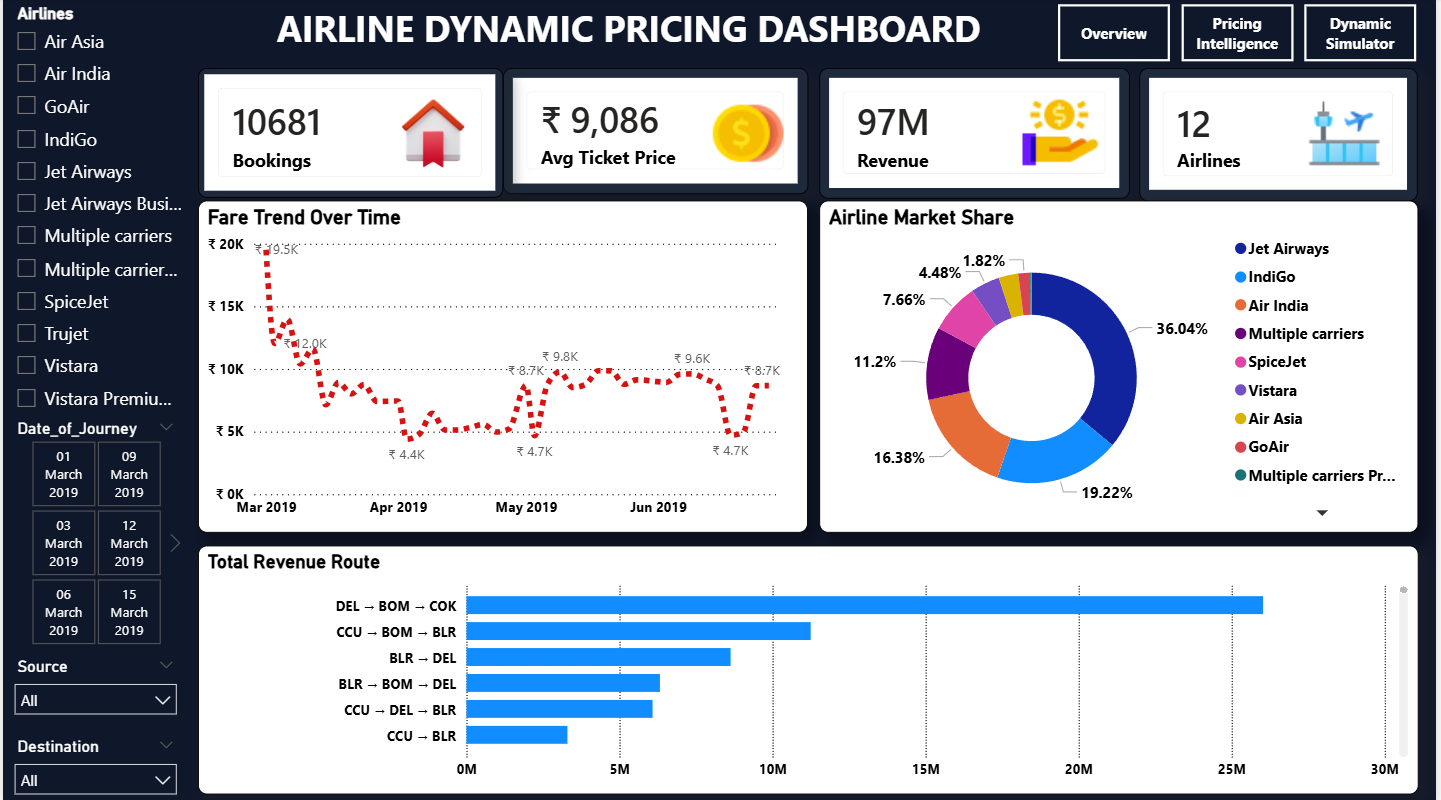

The page's visual inventory and layout, read from the dashboard file:
{"tool":"powerbi","page":{"name":"Overview","canvas":[1280,720],"ordinal":0},"visuals":[{"type":"cardVisual","fields":{"Data":["Airline.Avg Ticket Price"]},"box":[455.6,62.5,263.5,112.8],"z":0},{"type":"cardVisual","fields":{"Data":["Airline.Total Revenue"]},"box":[729.2,62.5,276.9,112.8],"z":1000},{"type":"cardVisual","fields":{"Data":["Airline.Total Flights"]},"box":[1015,62.5,247.9,112.8],"z":2000},{"type":"cardVisual","fields":{"Data":["Airline.Total Bookings"]},"box":[174.2,62.5,272.5,112.8],"z":3000},{"type":"textbox","box":[237.8,0,705.7,62.5],"z":4000},{"type":"lineChart","title":"Fare Trend Over Time","fields":{"Y":["Airline.Avg Ticket Price"],"Category":["Airline.Date_of_Journey.Variation.Date Hierarchy.Year","Airline.Date_of_Journey.Variation.Date Hierarchy.Quarter","Airline.Date_of_Journey.Variation.Date Hierarchy.Month","Airline.Date_of_Journey.Variation.Date Hierarchy.Day"]},"box":[174.1,181.3,545.1,296.6],"z":5000},{"type":"donutChart","title":"Airline Market Share","fields":{"Category":["Airline.Airline"],"Y":["Airline.Total Bookings"]},"box":[728.9,181.3,535.5,296.6],"z":6000},{"type":"clusteredBarChart","title":"Total Revenue Route","fields":{"Category":["Airline.Route"],"Y":["Airline.Total Revenue"]},"box":[174.1,488.7,1090.3,222.1],"z":7000},{"type":"slicer","fields":{"Values":["Airline.Airline"]},"box":[0,0,165.3,397.5],"z":8000},{"type":"slicer","fields":{"Values":["Airline.Source"]},"box":[0,583.7,165.1,72.1],"z":9000},{"type":"slicer","fields":{"Values":["Airline.Destination"]},"box":[0,655.8,165.1,64],"z":10000},{"type":"slicer","fields":{"Values":["Airline.Date_of_Journey"]},"box":[0,370.9,165.1,212.8],"z":11000},{"type":"pageNavigator","box":[942.6,6,320.6,51.6],"z":12000},{"type":"image","box":[339.8,85.3,88.9,72],"z":13000},{"type":"image","box":[620.8,85.3,88.9,72],"z":14000},{"type":"image","box":[899.4,85.3,88.9,72],"z":15000},{"type":"image","box":[1153.9,85.3,88.9,72],"z":16000},{"type":"image","box":[174.2,6.7,63.6,50.2],"z":16001}]}

Visuals, with their boxes in screenshot pixels (x1, y1, x2, y2), scaled from the page's 1280x720 canvas onto the 1441x800 screenshot:
cardVisual - Airline.Avg Ticket Price: 513/69/810/195
cardVisual - Airline.Total Revenue: 821/69/1133/195
cardVisual - Airline.Total Flights: 1143/69/1422/195
cardVisual - Airline.Total Bookings: 196/69/503/195
textbox: 268/0/1062/69
"Fare Trend Over Time" lineChart: 196/201/810/531
"Airline Market Share" donutChart: 821/201/1423/531
"Total Revenue Route" clusteredBarChart: 196/543/1423/790
slicer - Airline.Airline: 0/0/186/442
slicer - Airline.Source: 0/649/186/729
slicer - Airline.Destination: 0/729/186/799
slicer - Airline.Date_of_Journey: 0/412/186/649
pageNavigator: 1061/7/1422/64
image: 383/95/483/175
image: 699/95/799/175
image: 1013/95/1113/175
image: 1299/95/1399/175
image: 196/7/268/63
